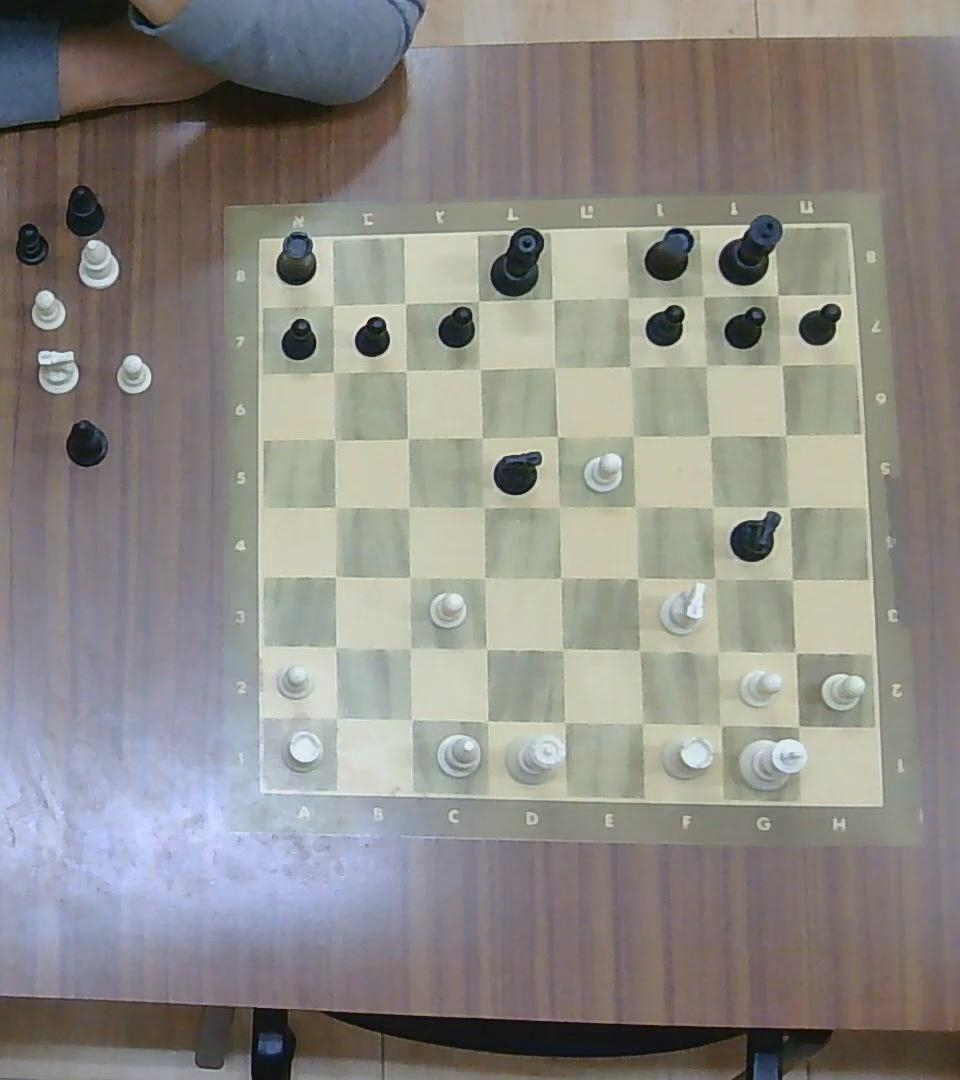xcorner: (624, 705, 658, 739), (702, 707, 736, 740), (781, 708, 813, 742), (701, 635, 734, 667), (548, 705, 579, 738), (624, 633, 655, 665), (394, 703, 425, 734), (320, 701, 351, 732), (780, 637, 811, 668), (470, 705, 501, 735), (470, 634, 501, 664), (319, 631, 350, 661), (547, 634, 577, 664), (699, 563, 728, 594), (622, 563, 651, 593), (394, 633, 424, 662), (776, 564, 806, 593), (547, 563, 576, 593), (469, 491, 498, 520), (470, 562, 499, 591), (622, 491, 651, 520), (394, 562, 423, 591), (616, 351, 645, 380), (320, 561, 350, 589), (545, 491, 573, 520), (617, 421, 646, 449), (774, 491, 802, 520), (321, 492, 350, 519), (394, 492, 422, 519), (543, 421, 571, 448), (538, 285, 566, 312), (466, 422, 495, 448), (699, 492, 726, 519), (615, 283, 641, 310), (692, 351, 719, 377), (392, 356, 418, 382), (321, 425, 347, 451), (394, 424, 420, 449), (696, 421, 722, 446), (690, 284, 716, 309), (768, 350, 794, 375), (541, 353, 567, 378), (466, 355, 491, 380), (772, 421, 798, 445), (465, 288, 491, 312), (393, 290, 417, 313), (322, 360, 345, 382), (321, 294, 343, 316), (767, 284, 789, 306)
